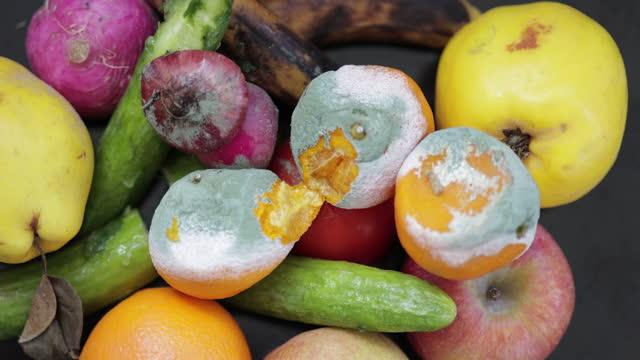organic: (437, 1, 629, 205), (145, 168, 323, 300), (404, 226, 575, 360), (290, 63, 436, 210), (399, 129, 540, 275), (0, 52, 96, 263), (213, 258, 457, 333), (26, 0, 160, 117), (78, 286, 255, 360), (138, 49, 251, 157), (197, 78, 277, 165), (264, 326, 409, 360)
